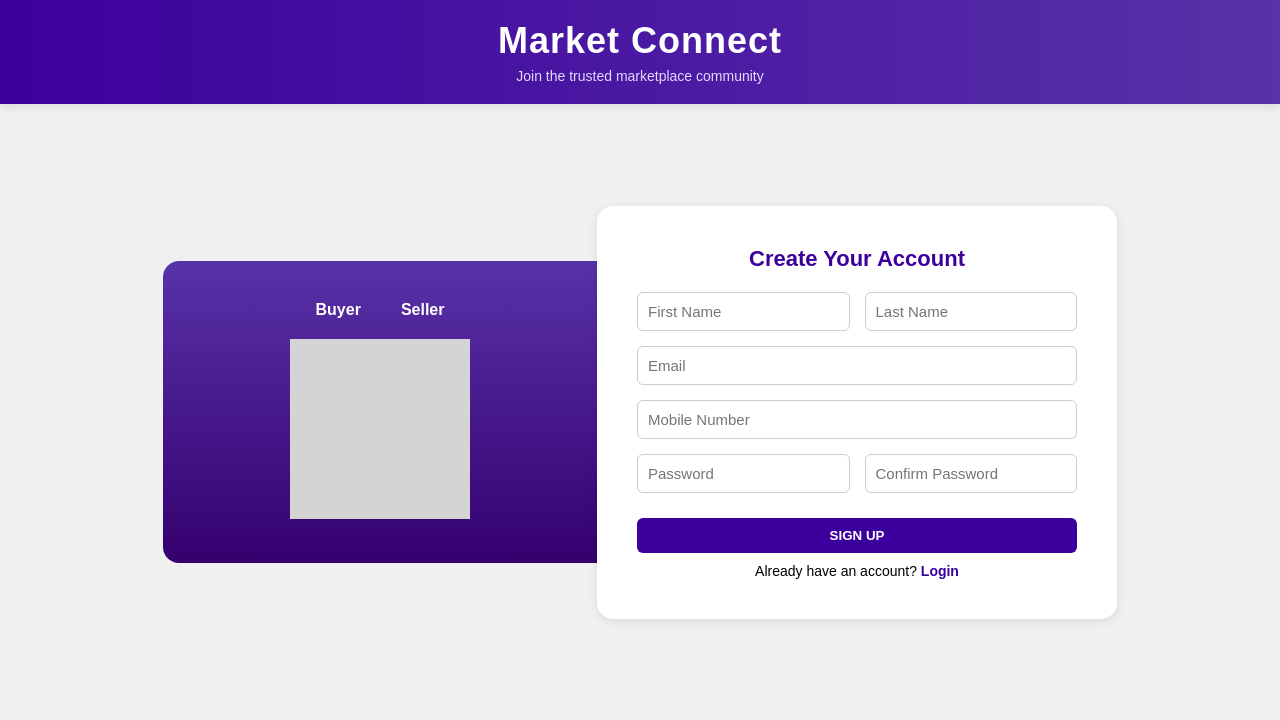
it: Signup › surfaces API error message when signup fails
The width and height of the screenshot is (1280, 720).
Type "John" into the field with placeholder "First Name".
click(743, 311); type("John")  # box [637,292,850,330]
Type "Doe" into the field with placeholder "Last Name".
click(971, 311); type("Doe")  # box [864,292,1077,330]
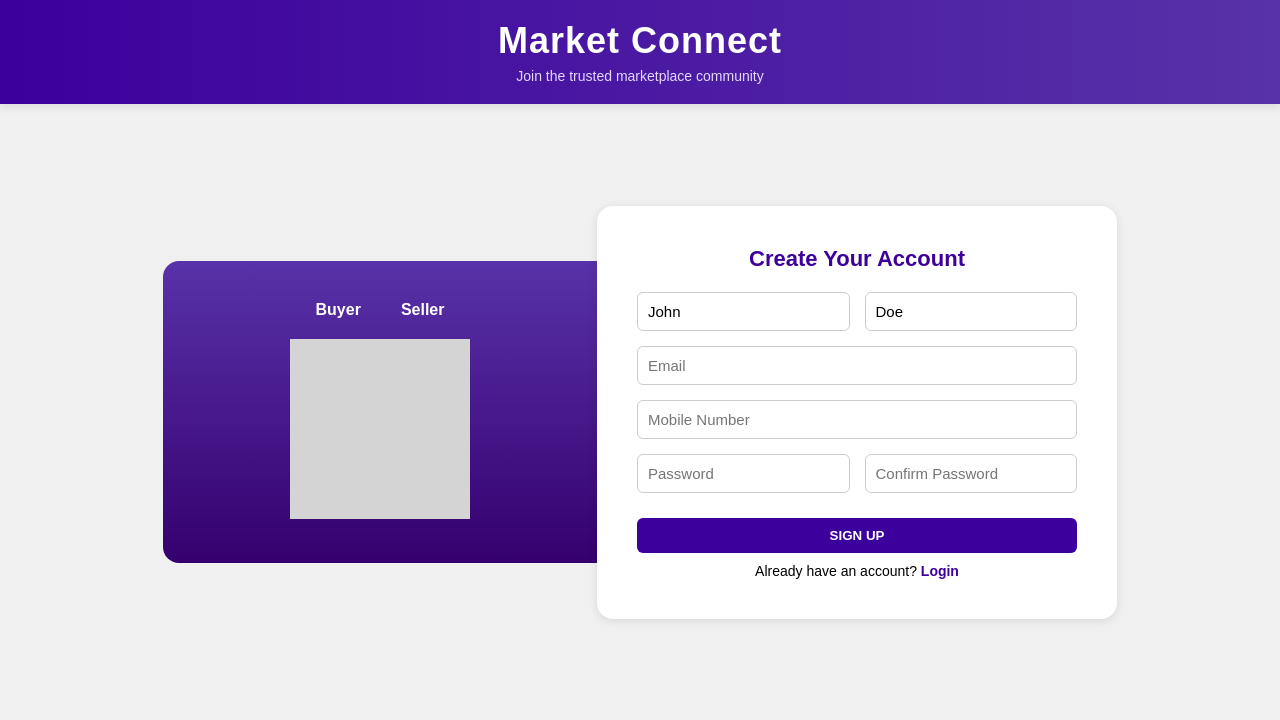
Type "john@test.com" into the field with placeholder "Email".
click(857, 365); type("john@test.com")  # box [637,346,1077,384]
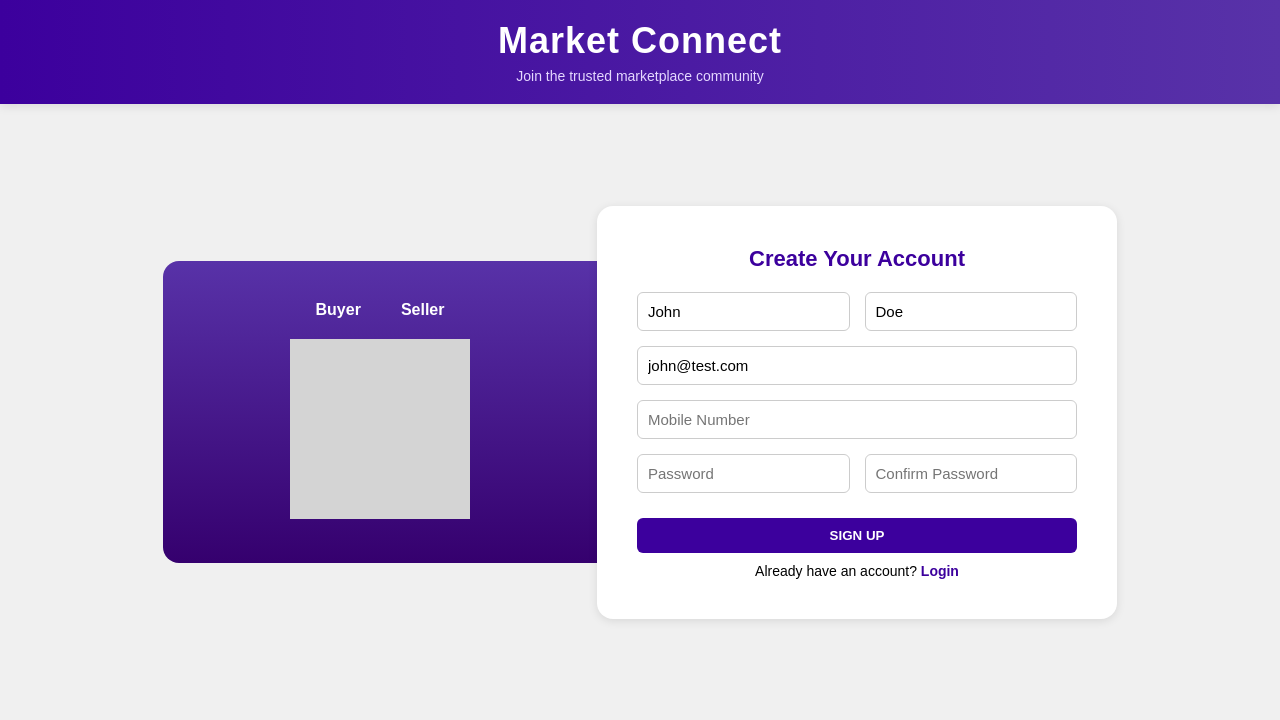
Type "9876543210" into the field with placeholder "Mobile Number".
click(857, 419); type("9876543210")  # box [637,400,1077,438]
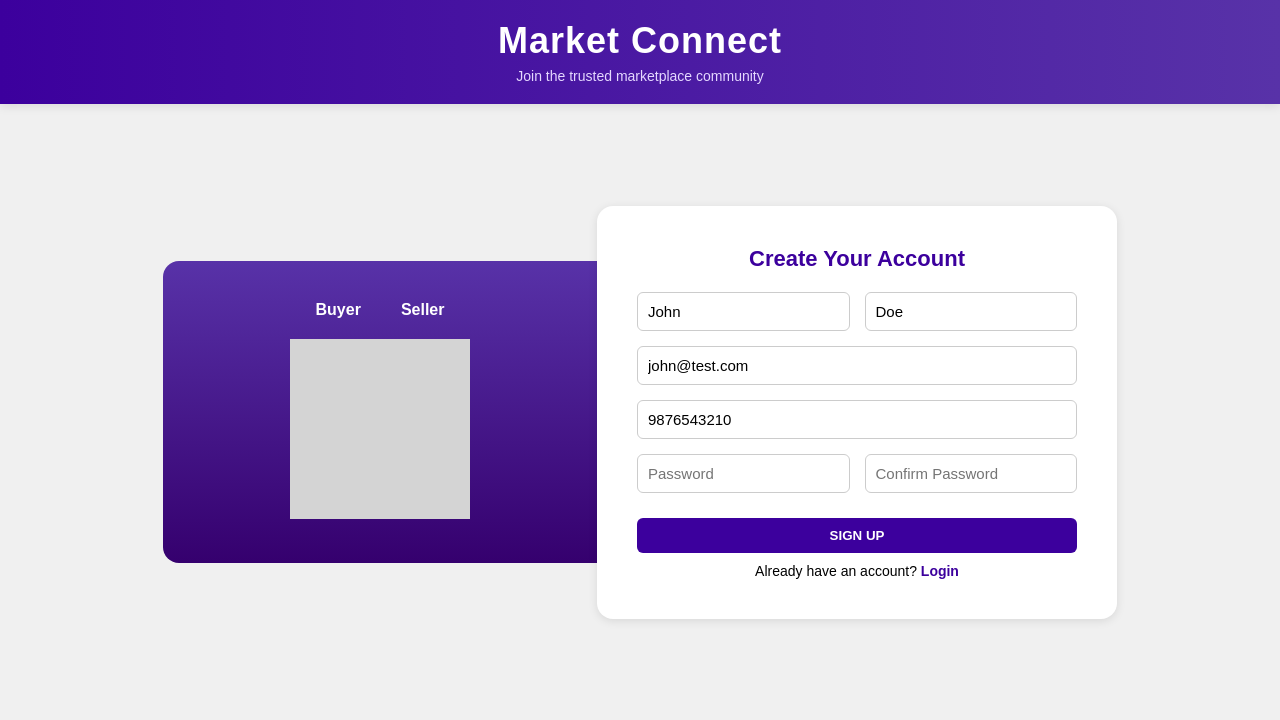
Type "Test123!" into the password field with placeholder "Password".
click(743, 473); type("Test123!")  # box [637,454,850,492]
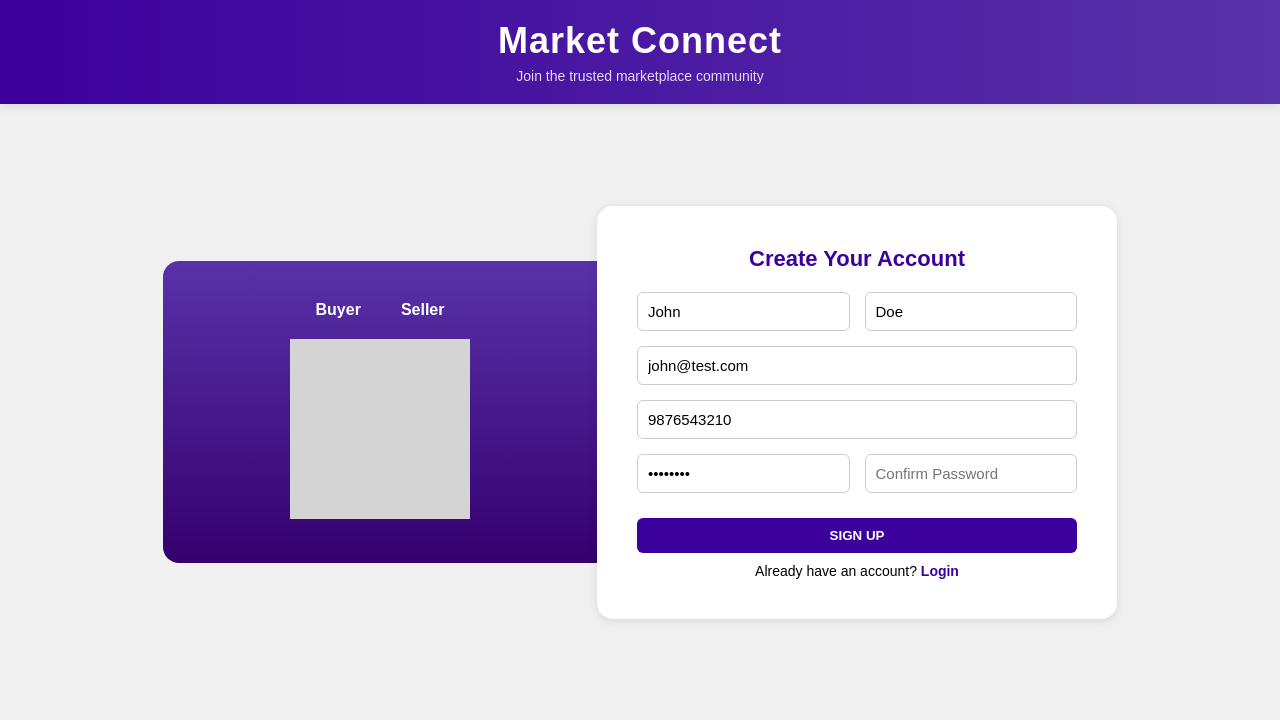
Type "Test123!" into the password field with placeholder "Confirm Password".
click(971, 473); type("Test123!")  # box [864,454,1077,492]
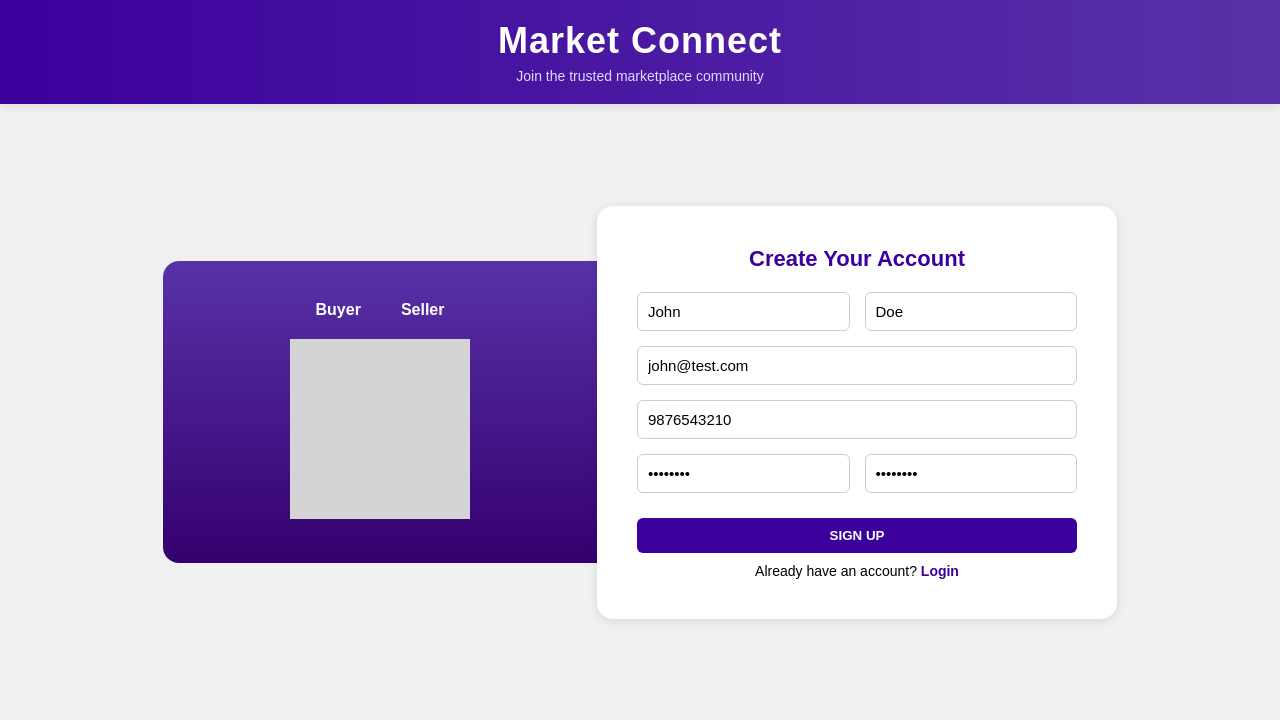
Click the button "SIGN UP".
click(857, 535)  # box [637,518,1077,552]
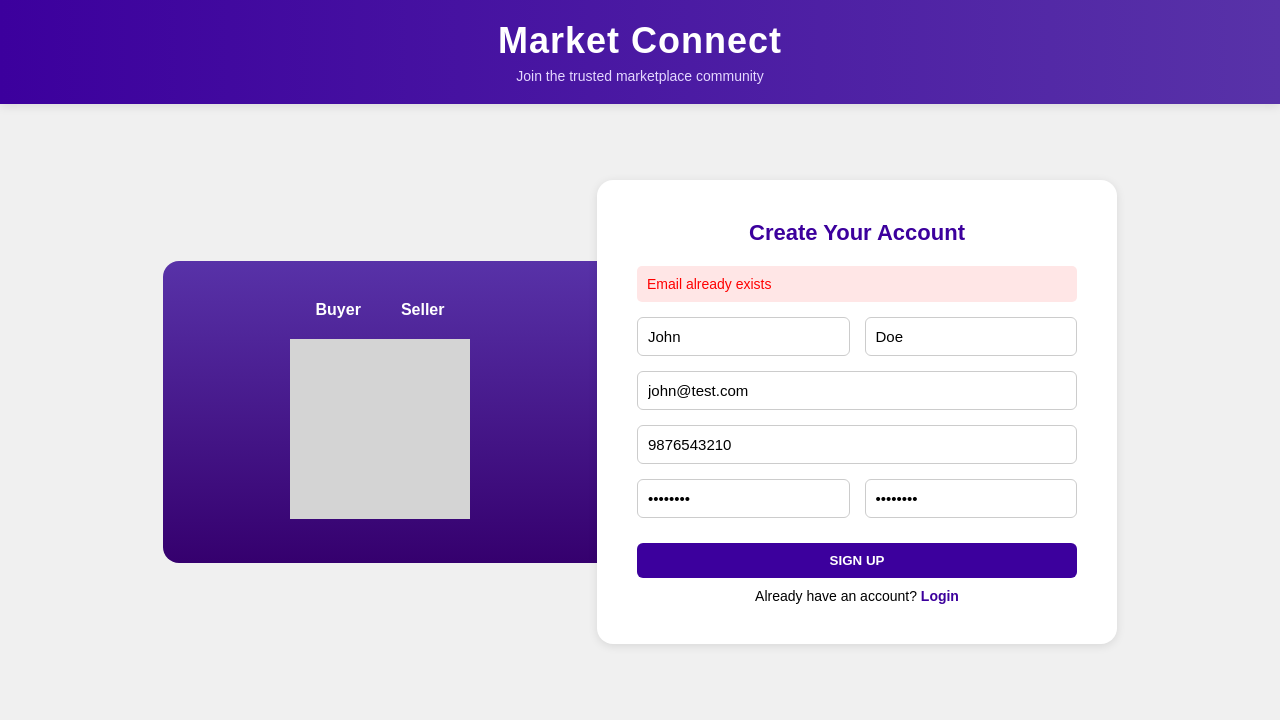
Expected: the text "Email already exists" is shown, [637,266,1077,302]
